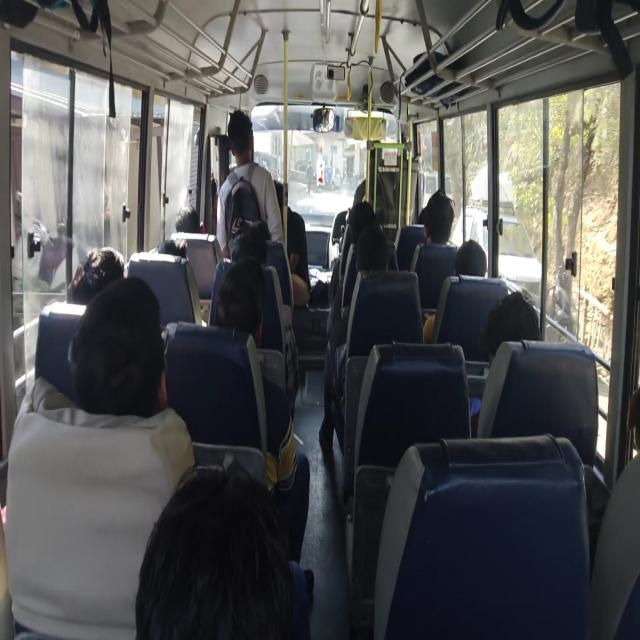person: (137, 465, 268, 640), (76, 272, 158, 403), (222, 258, 267, 346), (66, 238, 126, 304), (488, 297, 540, 368), (419, 190, 465, 260), (360, 228, 397, 286), (226, 229, 277, 267), (153, 235, 195, 281), (454, 231, 490, 282), (264, 160, 294, 215), (229, 113, 258, 167), (350, 200, 381, 248), (249, 210, 277, 240), (414, 192, 436, 225), (182, 198, 204, 230)
